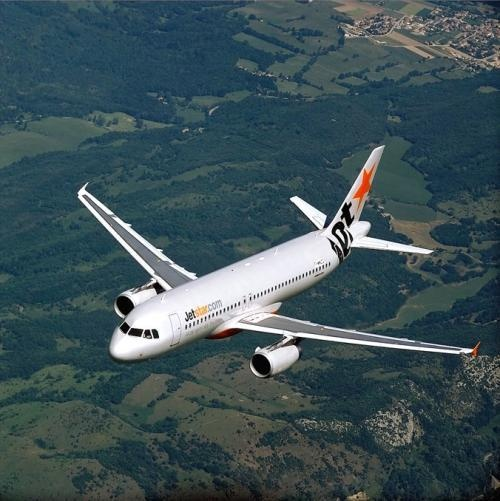airplane: (48, 142, 483, 380)
